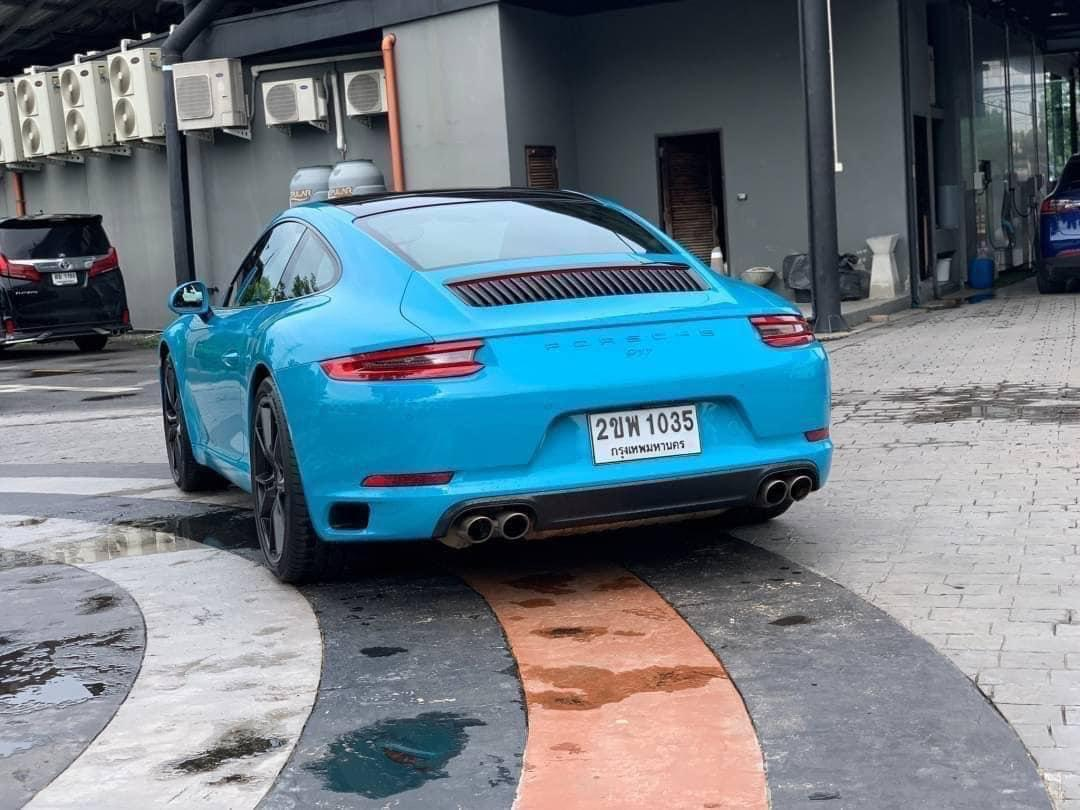license-plate: (576, 392, 712, 470)
